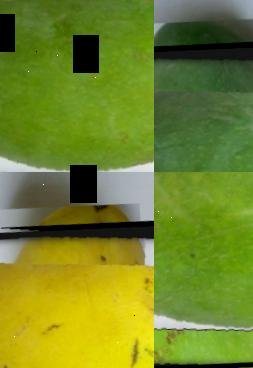Ripe: (0, 212, 154, 368)
Unripe: (0, 0, 154, 172), (154, 172, 253, 368), (154, 30, 253, 172)
